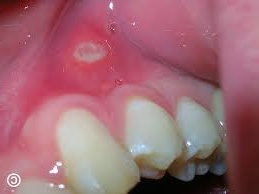Ulcer: (73, 37, 116, 64)
